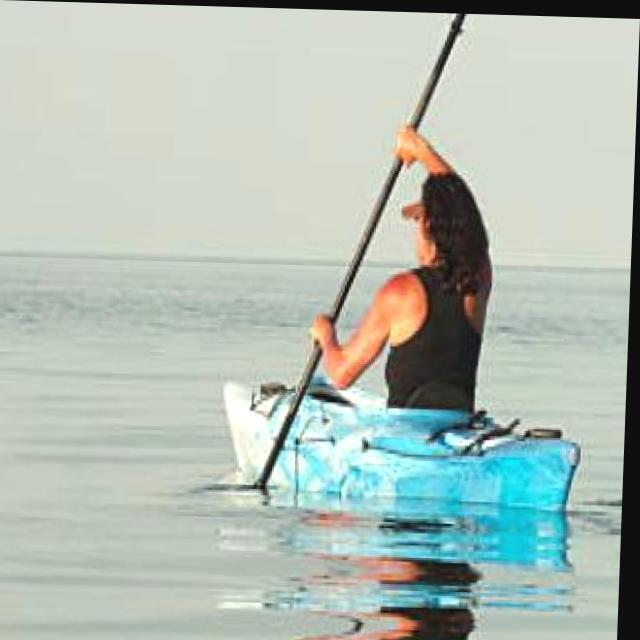kayak: (276, 378, 584, 531), (229, 383, 296, 484)
